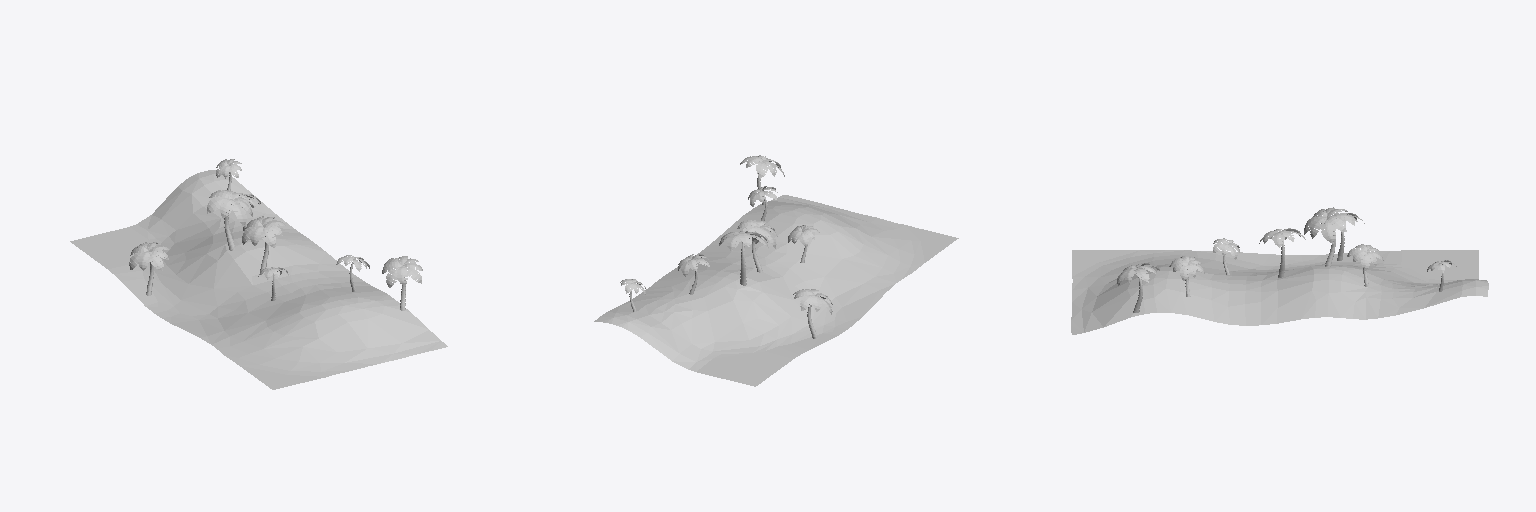
The model's file is hub_beach_par.obj.
3 views of the same model, side by side, from view 1: azimuth 30°, elevation 25°; view 2: azimuth 150°, elevation 25°; view 3: azimuth 270°, elevation 25° (orthographic).
Visible parts, largest first — view 1: Plane, leaves, trunk; view 2: Plane, leaves, trunk; view 3: Plane, leaves, trunk.
Part boxes in pixels (x1,y1,x2,y2): Plane: (70,170,447,389); leaves: (129,159,422,287); trunk: (146,172,405,310); Plane: (594,195,958,386); leaves: (620,155,832,314); trunk: (629,173,817,338); Plane: (1071,250,1488,334); leaves: (1117,207,1456,285); trunk: (1133,224,1443,312).
Bounding box in the file's own units: 43.05 × 18.98 × 82.14.